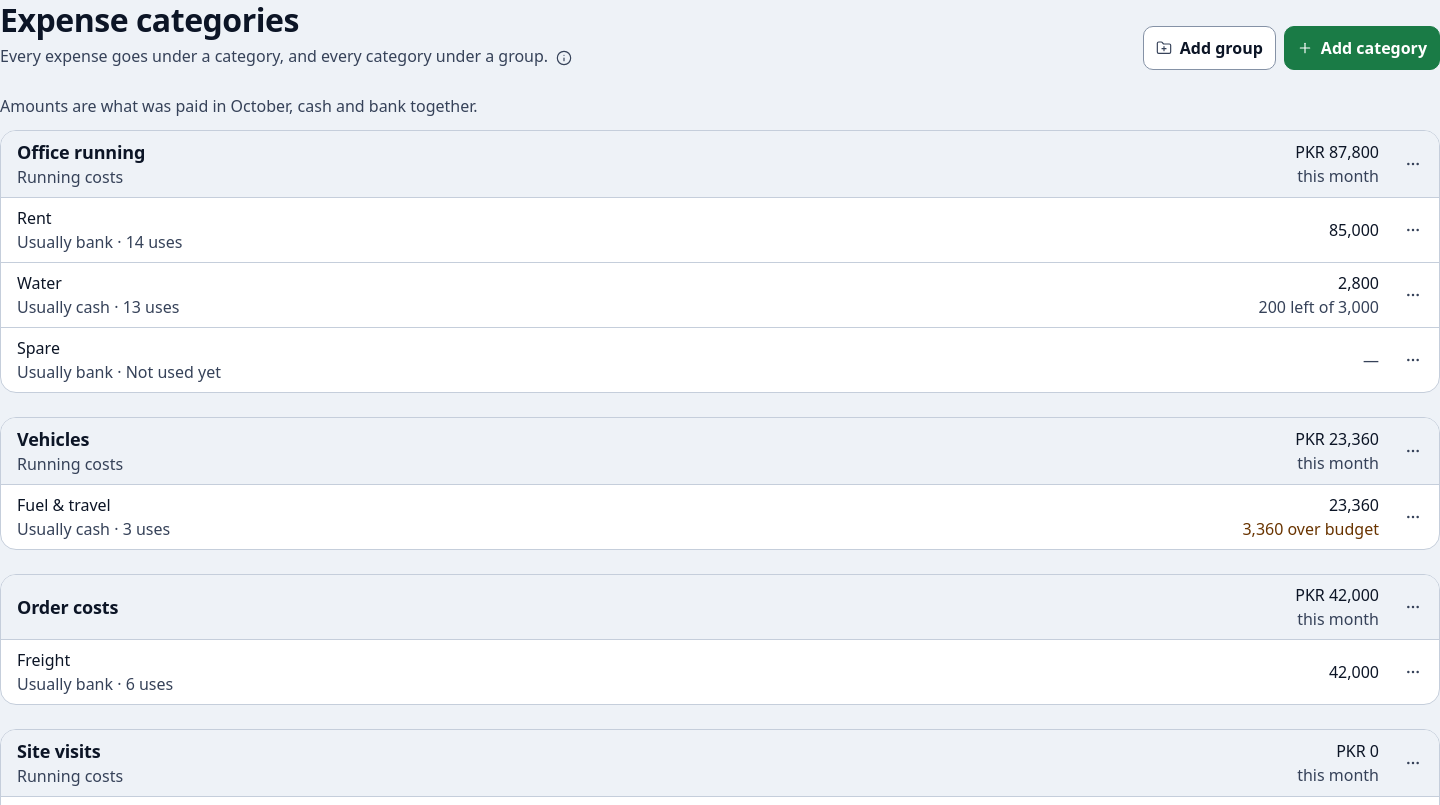
Scenario: Expense categories (M13, 0086) › a refused merge stays open with the server sentence
Click the button named "More for Water": (1413, 295) [1391,273,1435,317]
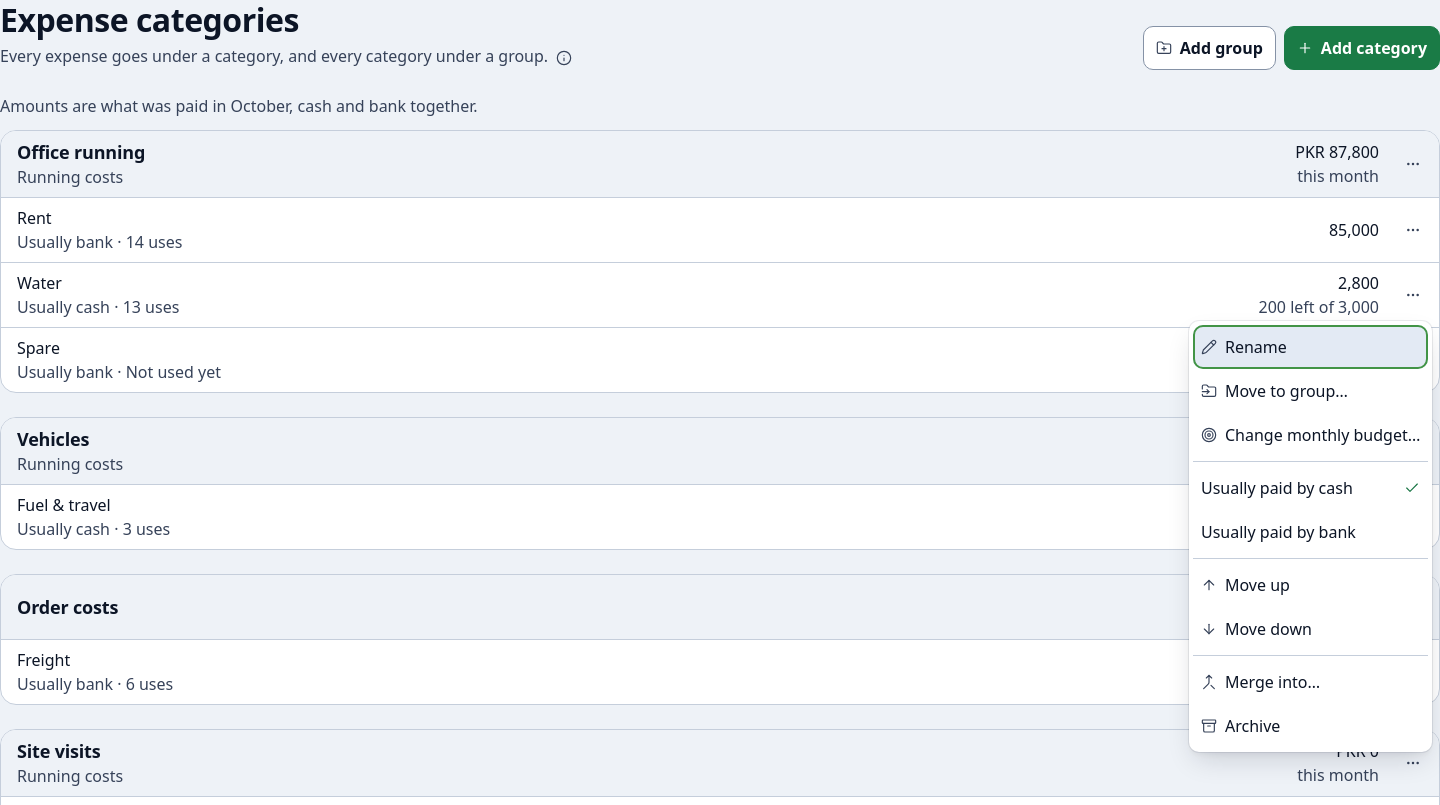
Click the menu item "Merge into…": (1311, 682) [1193,660,1428,704]
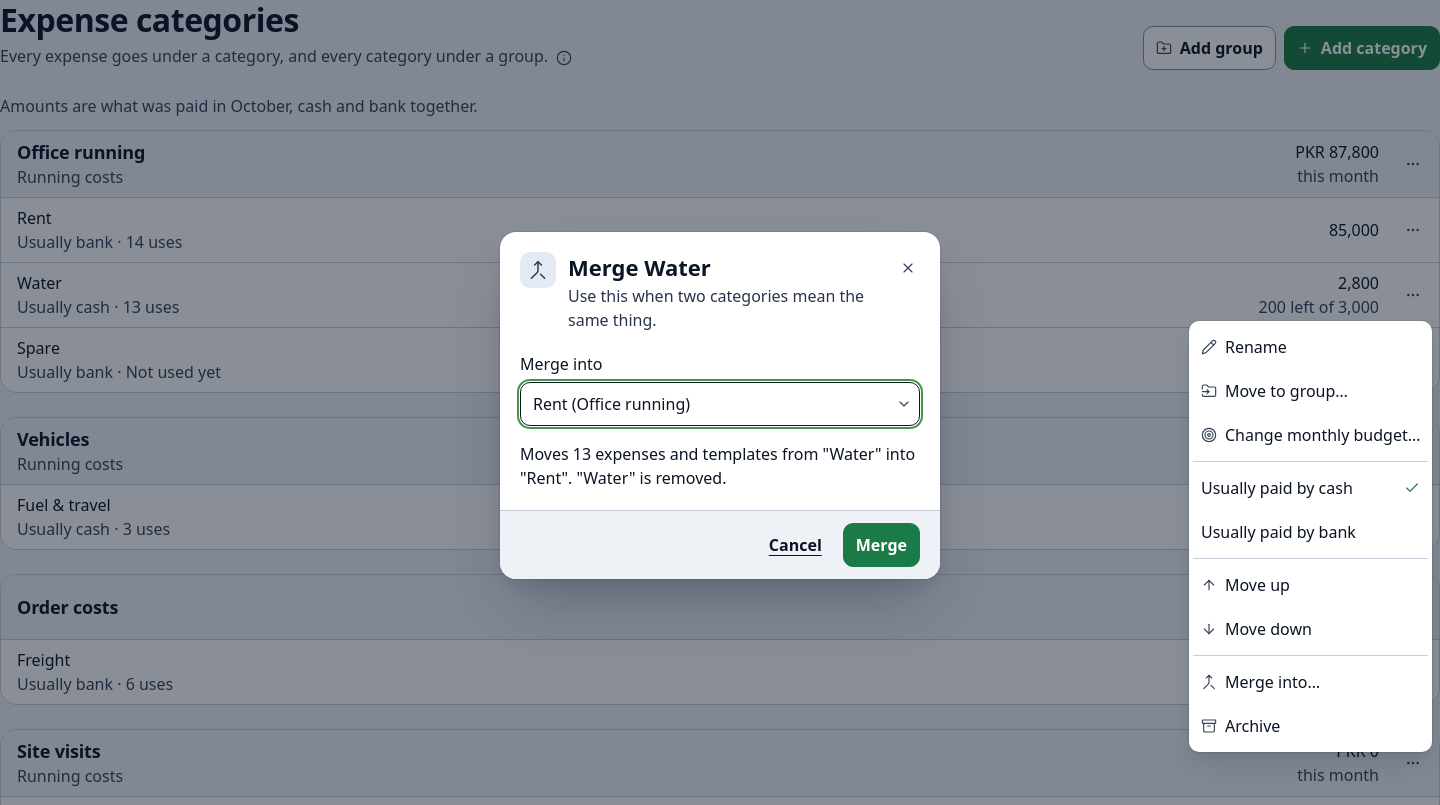
Select "Freight (Order costs), order costs" in the dropdown labelled "Merge into": (720, 404) [520,382,920,426]
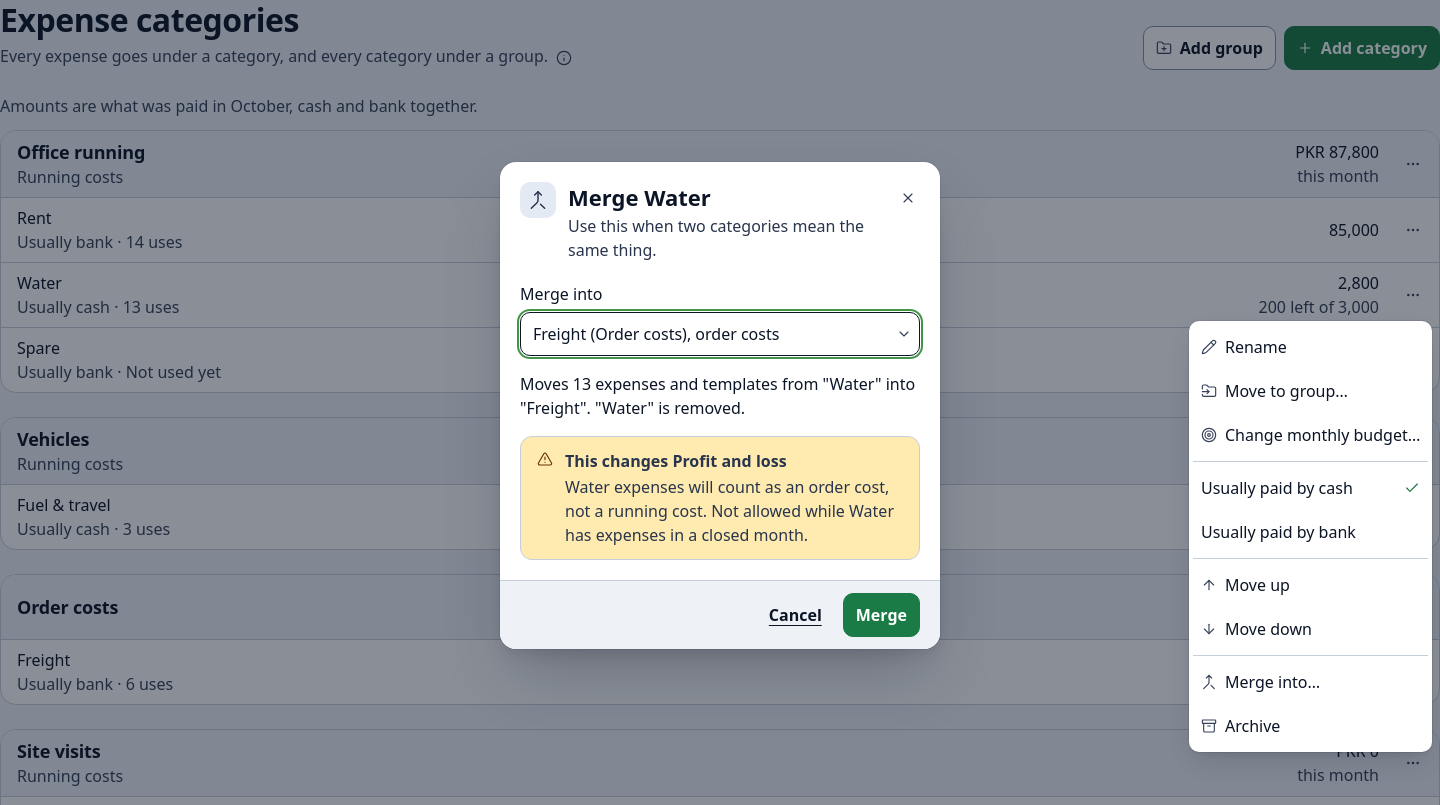
Click the button "Merge": (881, 614) [843,592,920,636]
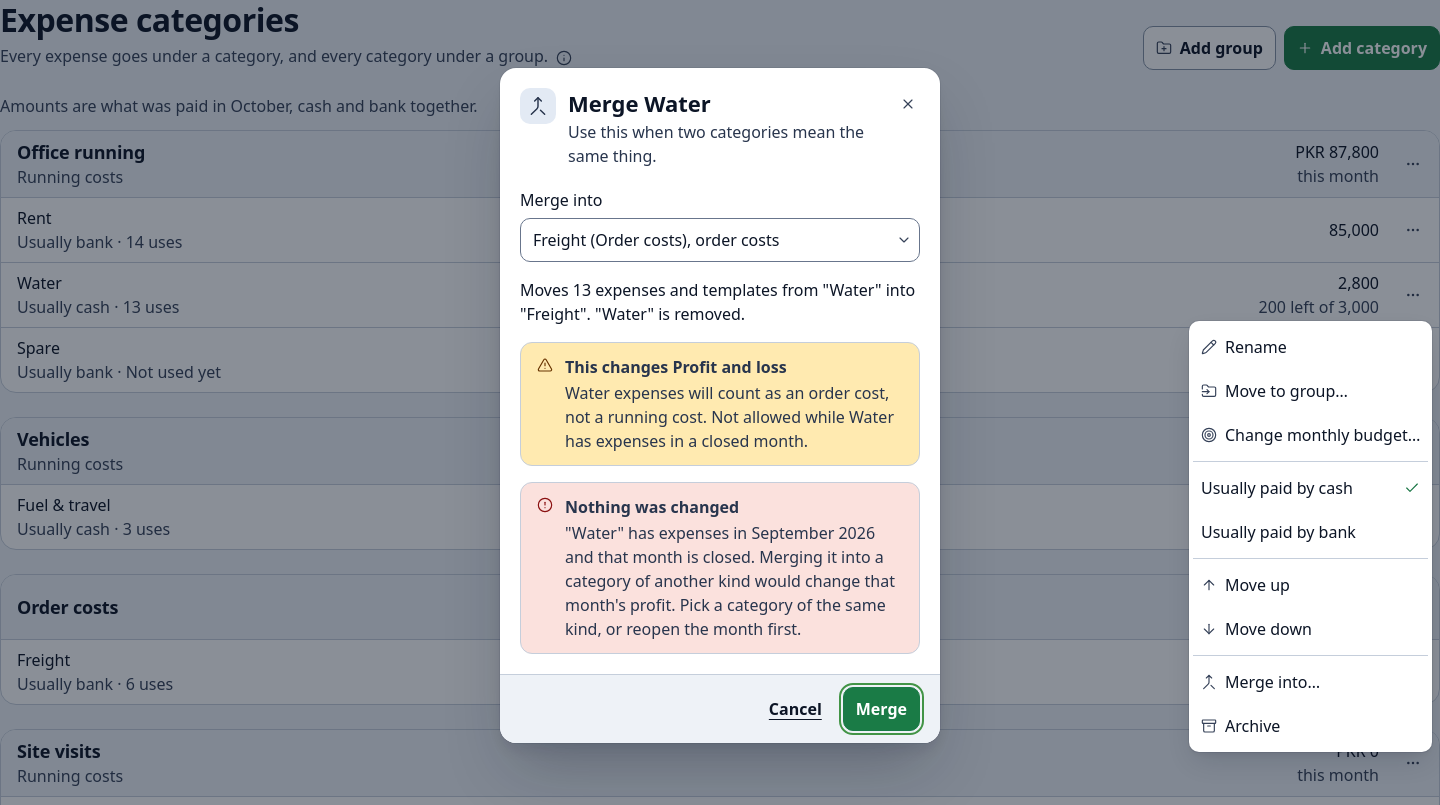
Now the text "that month is closed" is shown, box [565,522,895,640]
